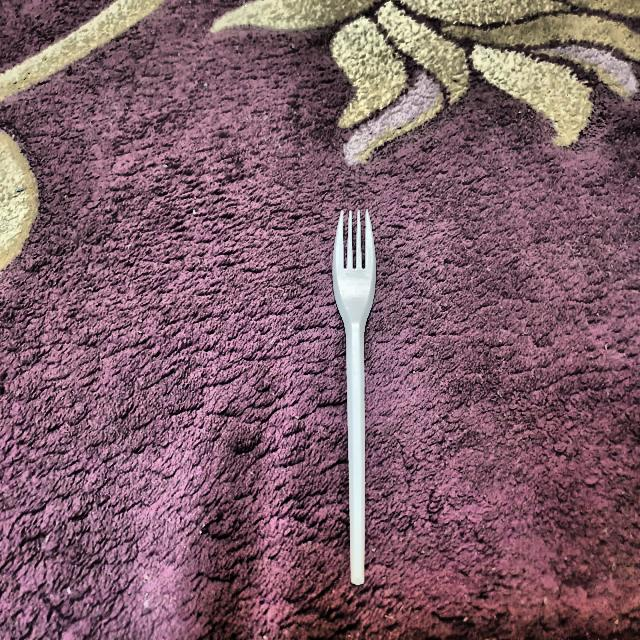plastic utensil: (330, 207, 386, 587)
